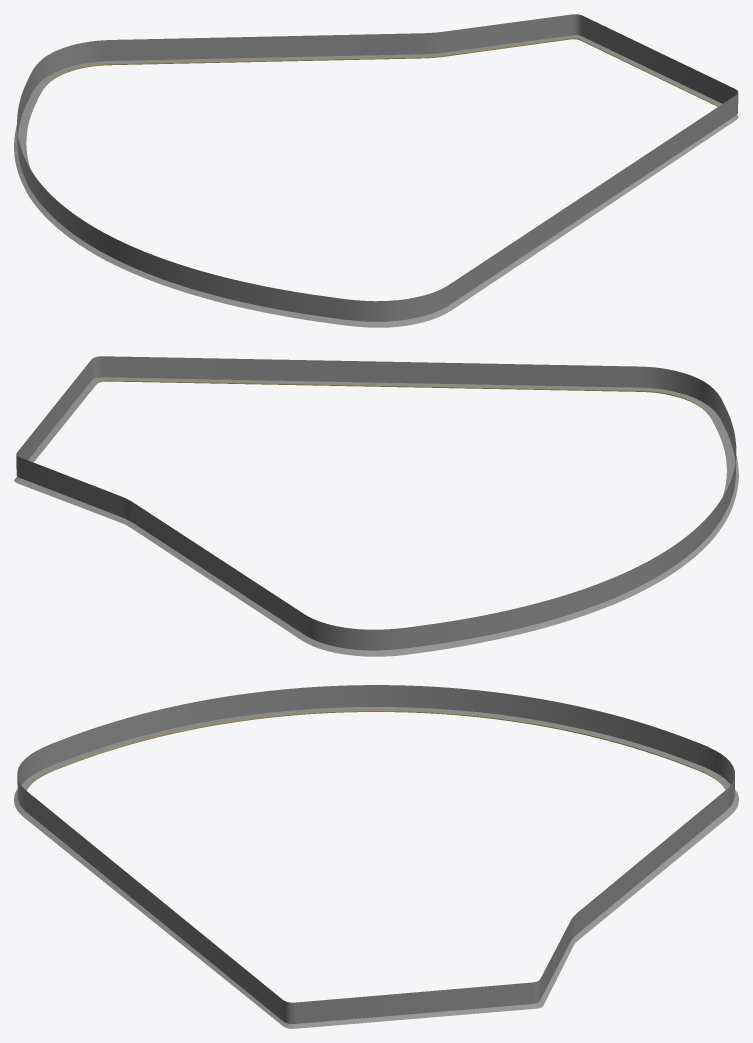
The model's file is CD_JZ_vr_trim02.FBX.
3 renders of one model, top to bottom at view 1: azimuth 30°, elevation 25°; view 2: azimuth 150°, elevation 25°; view 3: azimuth 270°, elevation 25°, orthographic. The views are drawn at different scales.
Visible parts, largest first — view 1: CD_JZ_vr_trim02; view 2: CD_JZ_vr_trim02; view 3: CD_JZ_vr_trim02.
Part boxes in pixels (<box>): CD_JZ_vr_trim02: <box>14,14,738,327</box>; CD_JZ_vr_trim02: <box>14,356,738,656</box>; CD_JZ_vr_trim02: <box>14,685,738,1028</box>.
Bounding box in the file's own units: 3346 × 128 × 3217.
